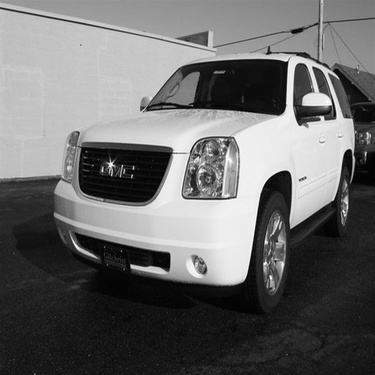car: (38, 45, 361, 306), (323, 85, 374, 182)
